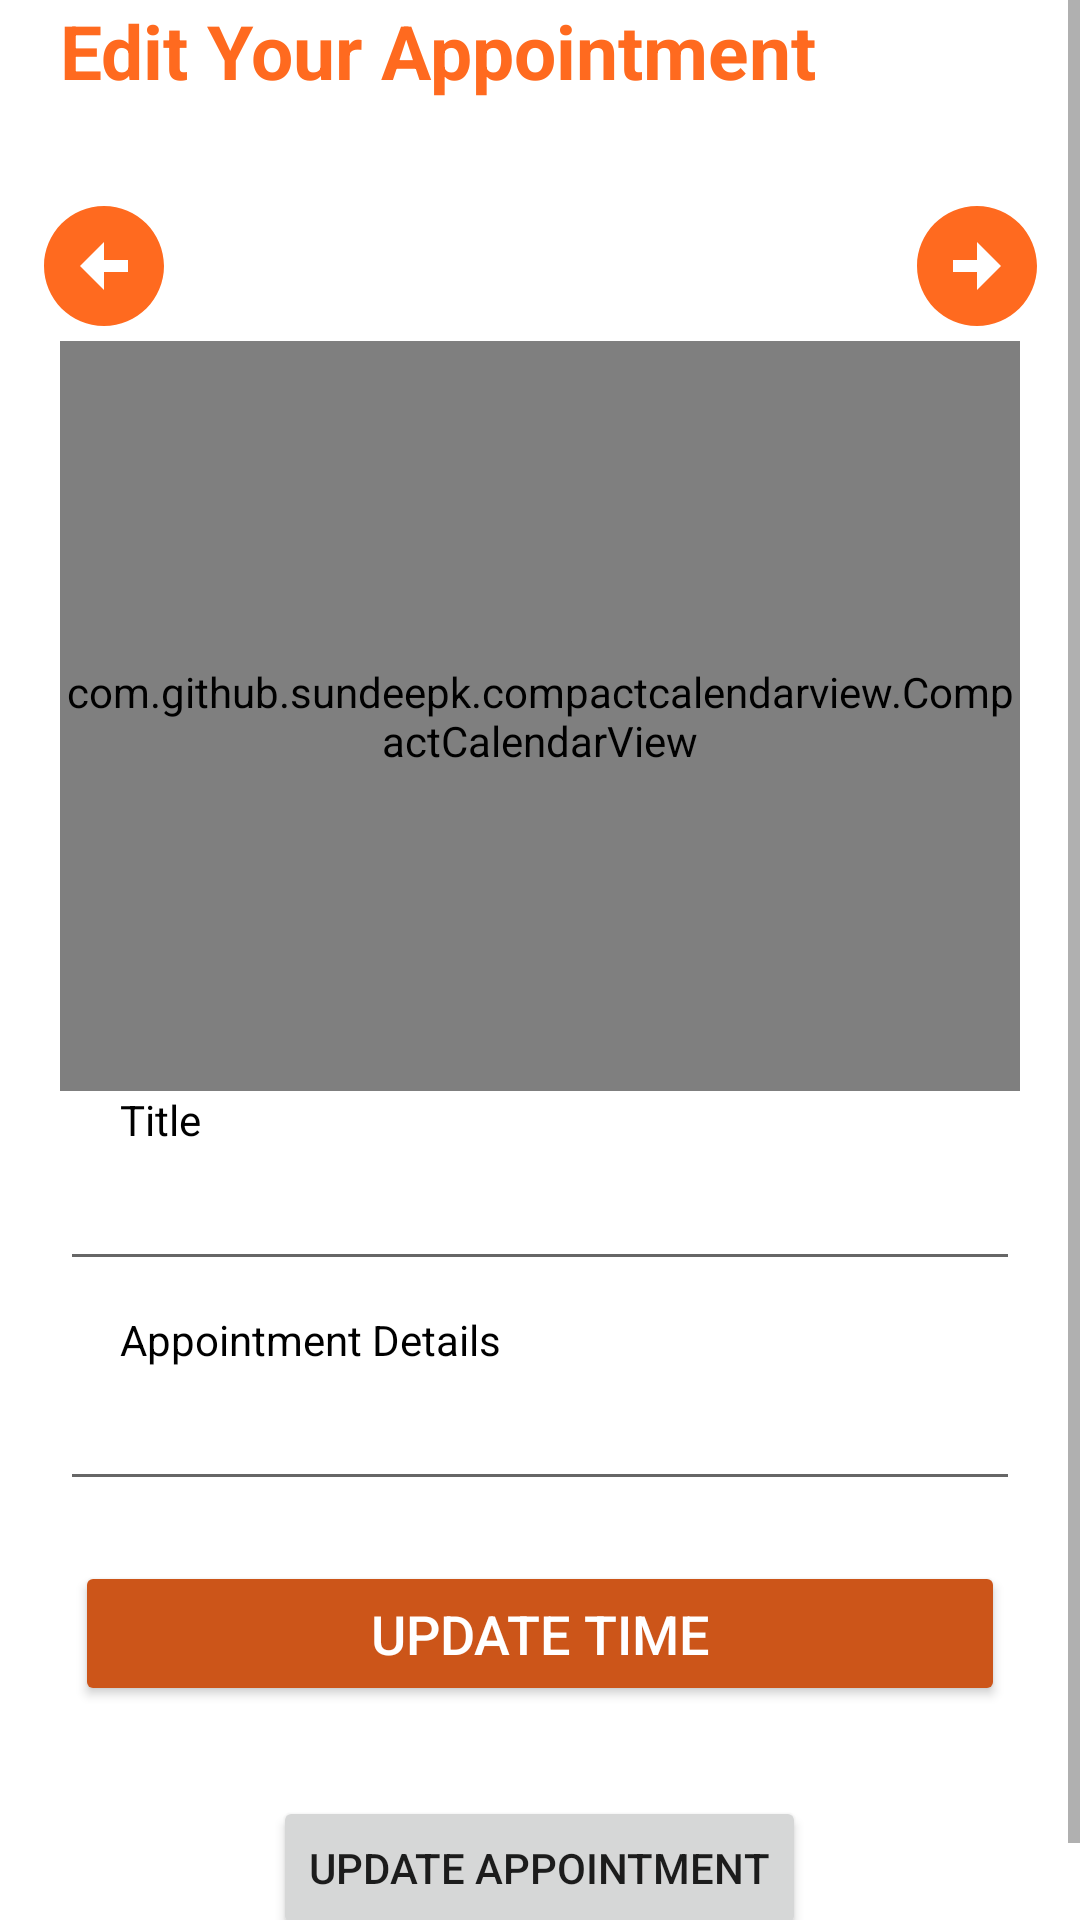

Icons on this 1080x1920 Android screen, each with the point to tap as [x,y]:
arrow circle right: [977,266]
left button: [104,266]
